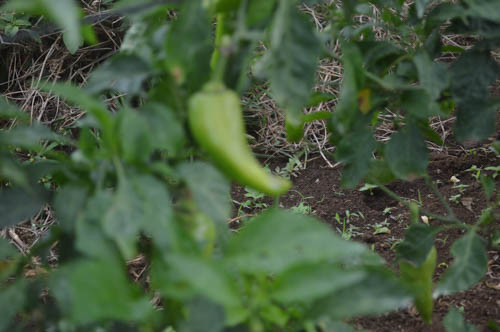ChiliPepper: (189, 92, 290, 199)
